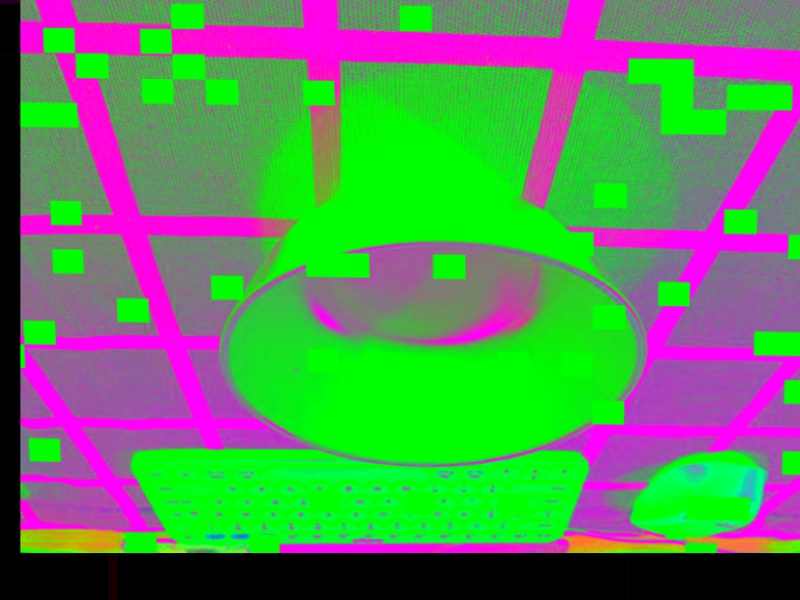bowl_big: (208, 169, 660, 475)
